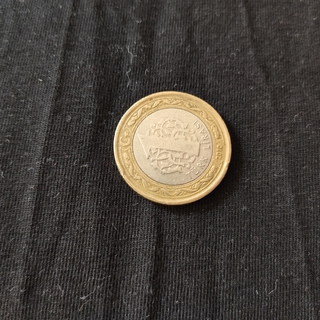1TL: (111, 87, 233, 207)
